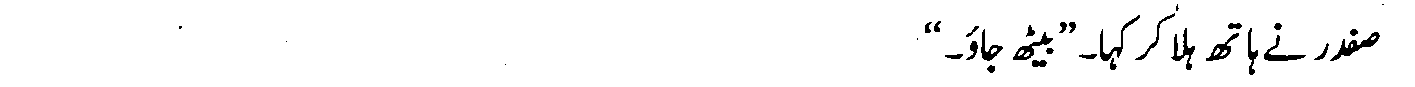bay_shosha: (1041, 27, 1055, 56)
